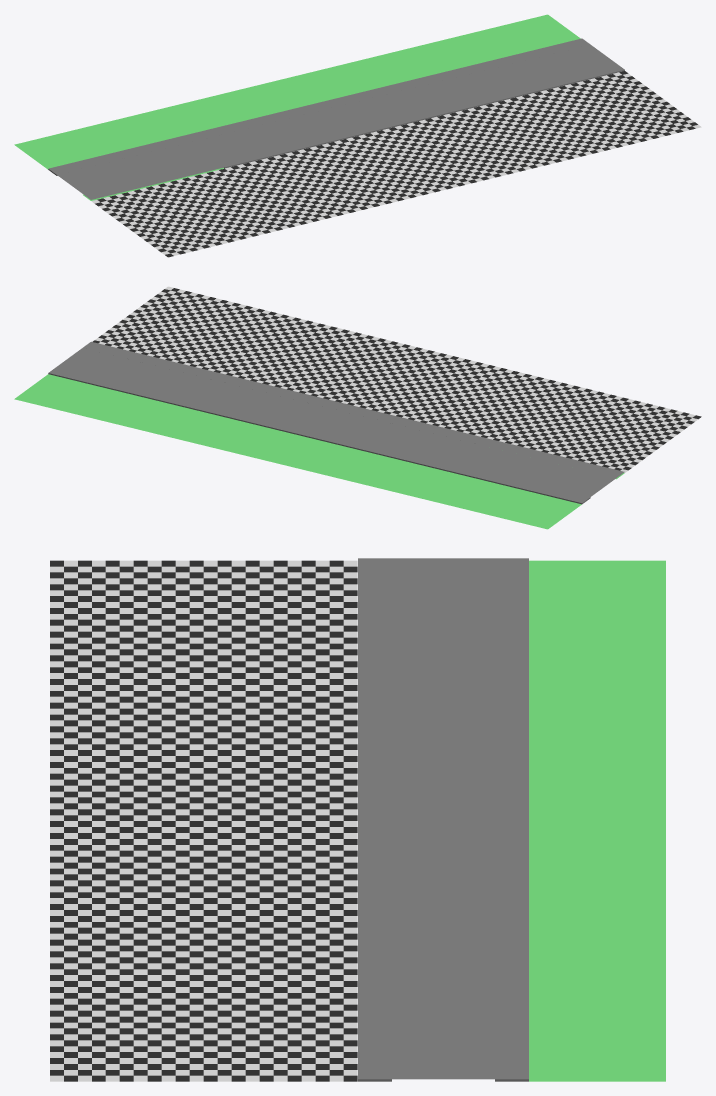
Rendered from Map5.fbx.
3 renders of one model, top to bottom at view 1: azimuth 30°, elevation 25°; view 2: azimuth 150°, elevation 25°; view 3: azimuth 270°, elevation 25°, orthographic. The views are drawn at different scales.
Visible parts, largest first — view 1: Level1.004; view 2: Level1.004; view 3: Level1.004.
Boxes of the visible parts, box(x1,y1,x2,y2) form: Level1.004: box(14, 14, 701, 257); Level1.004: box(14, 286, 701, 529); Level1.004: box(50, 558, 665, 1081).
Size of the model in its own units: 2400 by 5 by 1199.
